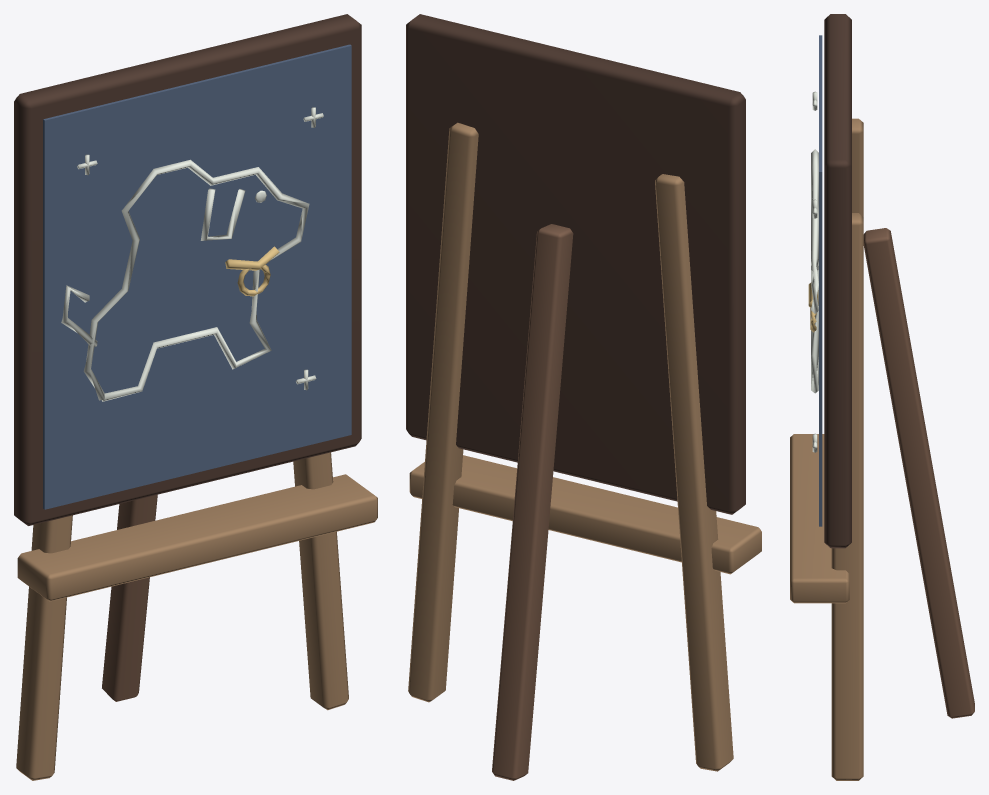
The model's file is chalk_drawing.glb.
3 views of the same model, side by side, from view 1: azimuth 30°, elevation 25°; view 2: azimuth 150°, elevation 25°; view 3: azimuth 270°, elevation 25° (orthographic). The views are drawn at different scales.
Visible parts, largest first — view 1: Slate paper, Dark drawing board, Easel ledge, Easel leg, Easel leg.001, Child chalk dog outline, Rear easel support, Floppy ear, Wobbly fluffy tail; view 2: Dark drawing board, Rear easel support, Easel leg, Easel leg.001, Easel ledge; view 3: Dark drawing board, Rear easel support, Easel leg.001, Easel ledge, Slate paper, Child chalk dog outline, Easel leg.
Part boxes in pixels (left/top/right/bottom): Slate paper: left=43, top=44, right=351, bottom=509; Dark drawing board: left=14, top=14, right=361, bottom=525; Easel ledge: left=17, top=474, right=377, bottom=601; Easel leg: left=16, top=515, right=72, bottom=780; Easel leg.001: left=293, top=452, right=348, bottom=710; Child chalk dog outline: left=83, top=159, right=309, bottom=401; Rear easel support: left=102, top=494, right=157, bottom=701; Floppy ear: left=200, top=188, right=245, bottom=240; Wobbly fluffy tail: left=61, top=285, right=97, bottom=347; Dark drawing board: left=406, top=14, right=745, bottom=514; Rear easel support: left=492, top=224, right=573, bottom=780; Easel leg: left=655, top=174, right=733, bottom=771; Easel leg.001: left=408, top=122, right=478, bottom=702; Easel ledge: left=409, top=455, right=761, bottom=574; Dark drawing board: left=824, top=14, right=851, bottom=548; Rear easel support: left=863, top=228, right=974, bottom=718; Easel leg.001: left=831, top=213, right=863, bottom=780; Easel ledge: left=790, top=434, right=849, bottom=603; Slate paper: left=819, top=35, right=822, bottom=526; Child chalk dog outline: left=811, top=149, right=818, bottom=393; Easel leg: left=852, top=118, right=863, bottom=216.
Bounding box in the file's own units: 0.45 × 0.8722 × 0.2327.
